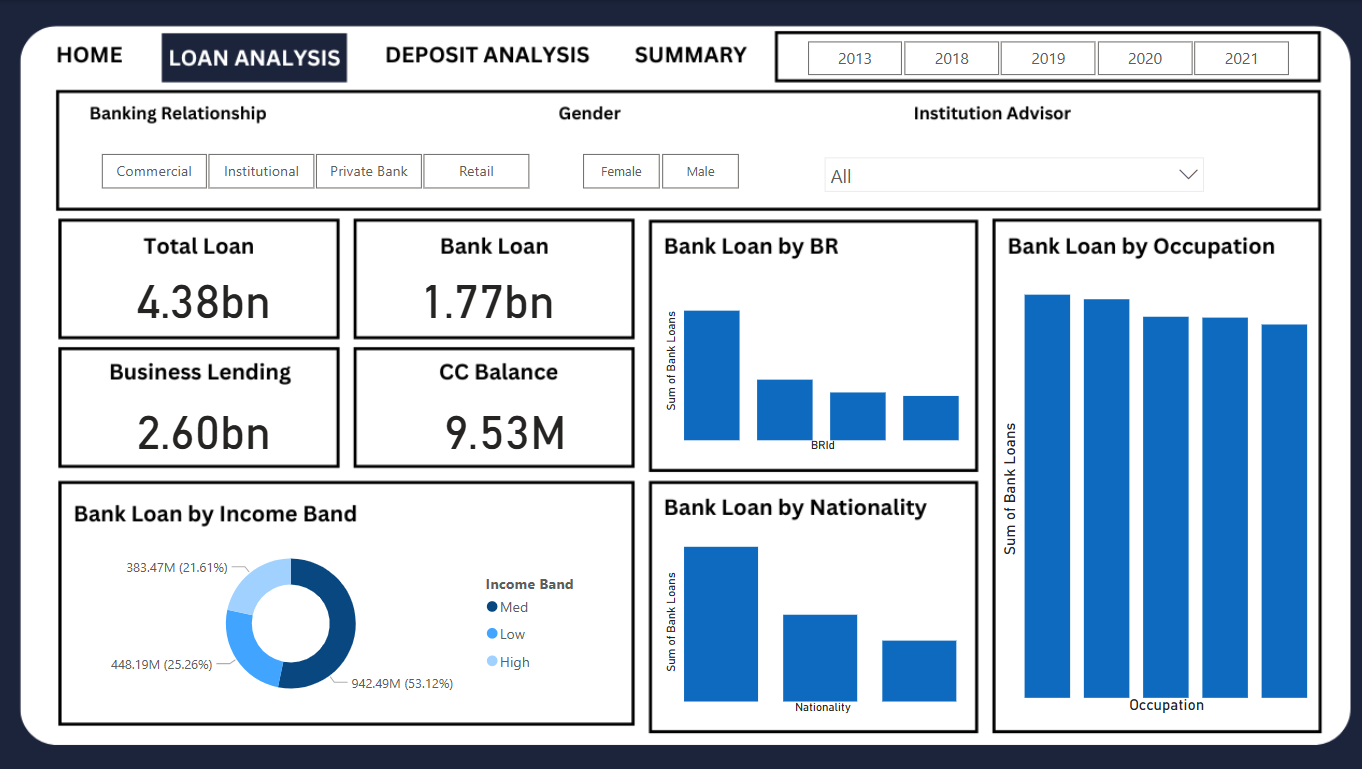

What the dashboard file says about the page in this screenshot:
{"tool":"powerbi","page":{"name":"Loan Analysis","canvas":[1280,720],"ordinal":1},"visuals":[{"type":"slicer","fields":{"Values":["banking_case customer.year of joining"]},"box":[729.1,31.4,497.7,45.3],"z":0},{"type":"actionButton","box":[36,31.4,103.5,40.7],"z":1000},{"type":"actionButton","box":[353.5,32.6,207,44.2],"z":2000},{"type":"actionButton","box":[581.4,31.4,134.9,45.3],"z":3000},{"type":"card","fields":{"Values":["banking_case customer.Total Loans"]},"box":[105.8,247.7,174.4,55.8],"z":4000},{"type":"card","fields":{"Values":["Sum(banking_case customer.Bank Loans)"]},"box":[369.8,247.7,174.4,55.8],"z":5000},{"type":"card","fields":{"Values":["Sum(banking_case customer.Business Lending)"]},"box":[105.8,369.8,174.4,55.8],"z":6000},{"type":"card","fields":{"Values":["Sum(banking_case customer.Credit Card Balance)"]},"box":[386,369.8,174.4,55.8],"z":7000},{"type":"donutChart","fields":{"Category":["banking_case customer.Income Band"],"Y":["Sum(banking_case customer.Bank Loans)"]},"box":[88.4,497.7,472.1,165.1],"z":8000},{"type":"clusteredColumnChart","fields":{"Category":["banking_case customer.BRId"],"Y":["Sum(banking_case customer.Bank Loans)"]},"box":[617.4,247.7,286,177.9],"z":9000},{"type":"clusteredColumnChart","fields":{"Category":["banking_case customer.Nationality"],"Y":["Sum(banking_case customer.Bank Loans)"]},"box":[617.4,490.7,286,177.9],"z":10000},{"type":"clusteredColumnChart","fields":{"Category":["banking_case customer.Occupation"],"Y":["Sum(banking_case customer.Bank Loans)"]},"box":[930.4,247,296.4,422.6],"z":11000},{"type":"slicer","fields":{"Values":["banking_case customer.BRId"]},"box":[72.1,136,447.7,46.5],"z":12000},{"type":"slicer","fields":{"Values":["banking_case customer.GenderId"]},"box":[519.8,136,195.3,46.5],"z":13000},{"type":"slicer","fields":{"Values":["banking_case customer.IAId"]},"box":[760.5,136,373.3,47],"z":14000}]}

Visuals, with their boxes in screenshot pixels (x1, y1, x2, y2), scaled from the page's 1280x720 canvas onto the 1362x769 screenshot:
slicer - banking_case customer.year of joining: rect(776, 34, 1305, 82)
actionButton: rect(38, 34, 148, 77)
actionButton: rect(376, 35, 596, 82)
actionButton: rect(619, 34, 762, 82)
card - banking_case customer.Total Loans: rect(113, 265, 298, 324)
card - Sum(banking_case customer.Bank Loans): rect(393, 265, 579, 324)
card - Sum(banking_case customer.Business Lending): rect(113, 395, 298, 455)
card - Sum(banking_case customer.Credit Card Balance): rect(411, 395, 596, 455)
donutChart - banking_case customer.Income Band x Sum(banking_case customer.Bank Loans): rect(94, 532, 596, 708)
clusteredColumnChart - banking_case customer.BRId x Sum(banking_case customer.Bank Loans): rect(657, 265, 961, 455)
clusteredColumnChart - banking_case customer.Nationality x Sum(banking_case customer.Bank Loans): rect(657, 524, 961, 714)
clusteredColumnChart - banking_case customer.Occupation x Sum(banking_case customer.Bank Loans): rect(990, 264, 1305, 715)
slicer - banking_case customer.BRId: rect(77, 145, 553, 195)
slicer - banking_case customer.GenderId: rect(553, 145, 761, 195)
slicer - banking_case customer.IAId: rect(809, 145, 1206, 195)
